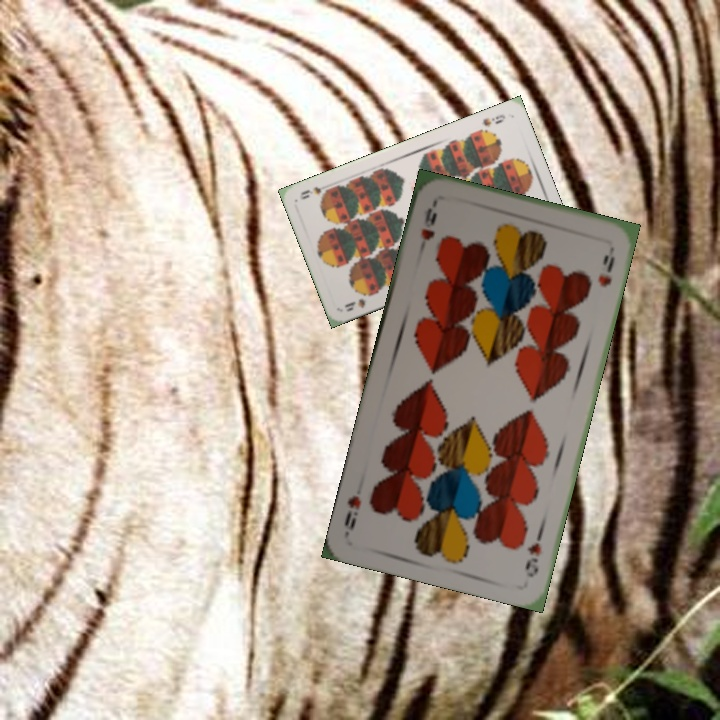H9: (521, 524, 547, 580), (416, 198, 440, 243)
S9: (340, 288, 378, 314), (479, 110, 508, 129)
